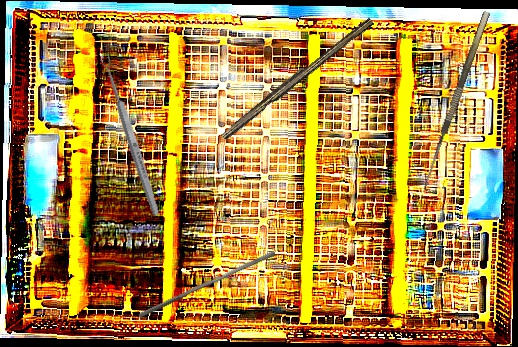Hook Surgical: (419, 10, 500, 195)
Pusher: (137, 245, 277, 324)
Scalpel Handle: (218, 13, 375, 143)
Surgical Spoon: (99, 53, 162, 217)
